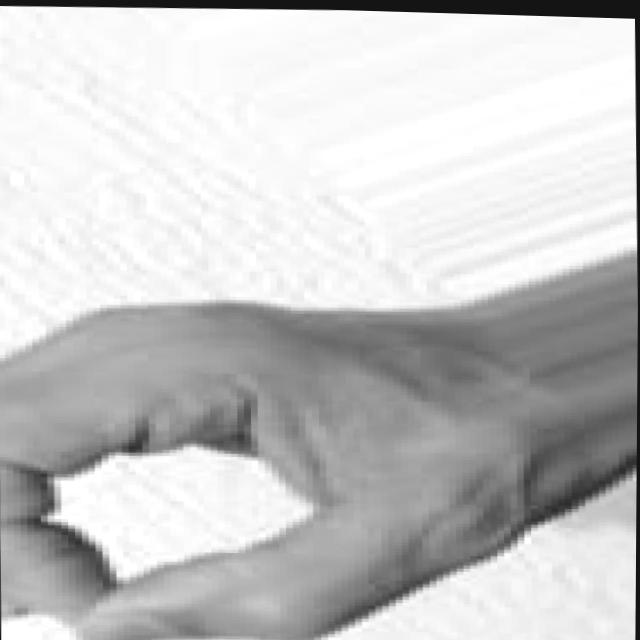O: (0, 283, 562, 640)
